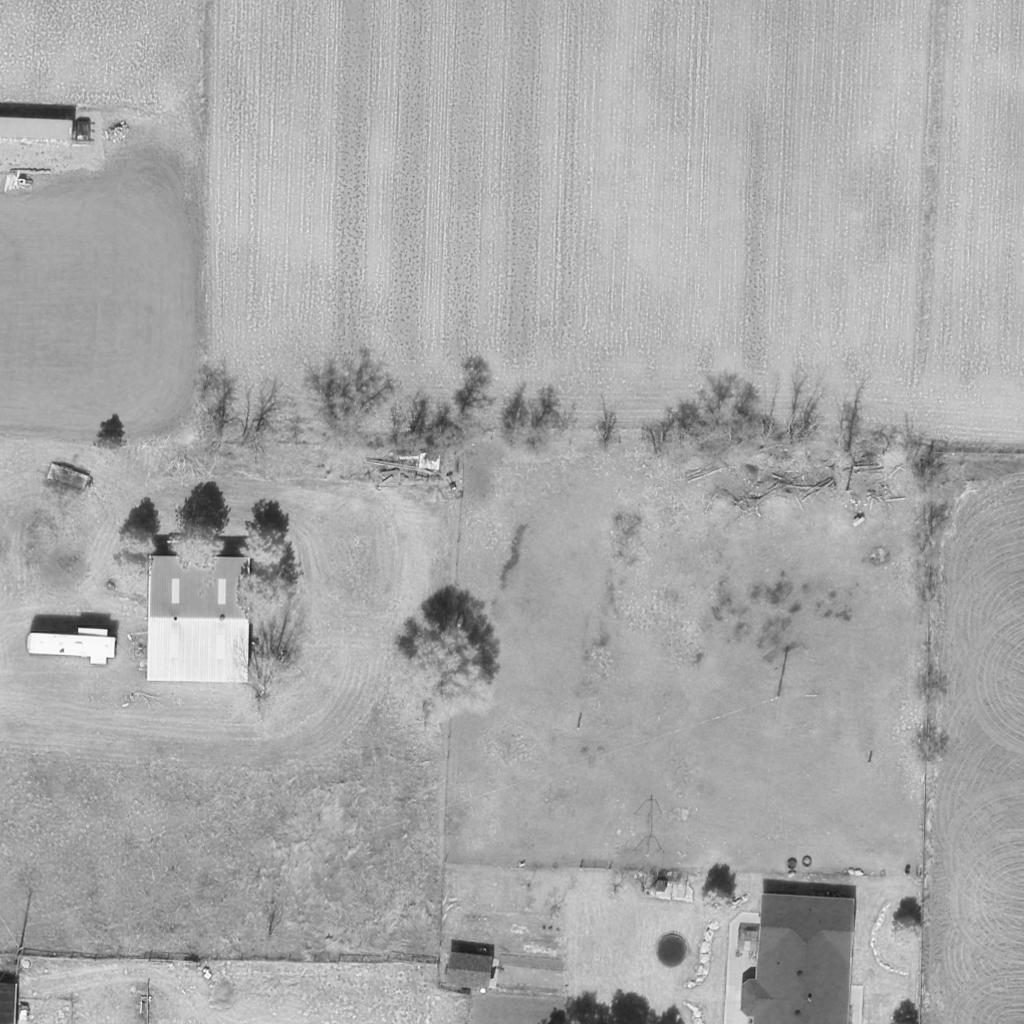vehicle: (28, 628, 114, 664)
